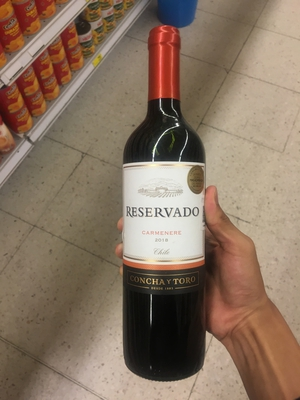reservado carmenere: (104, 35, 229, 376)
